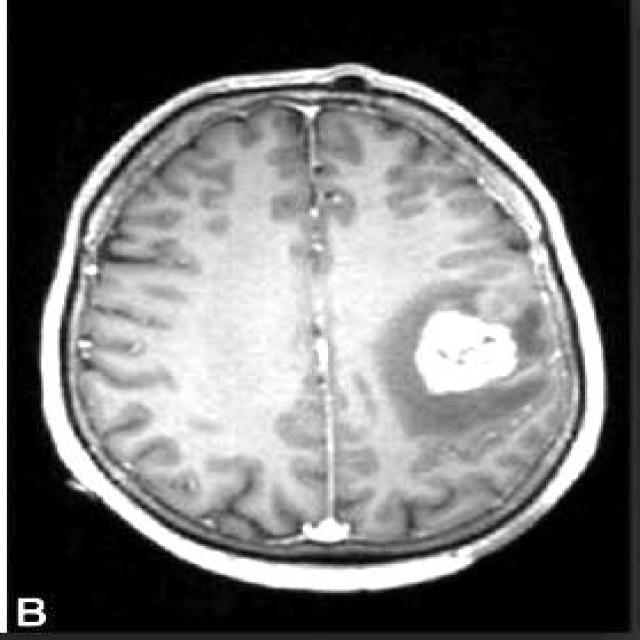Tumor-Cell: (378, 292, 541, 402)
